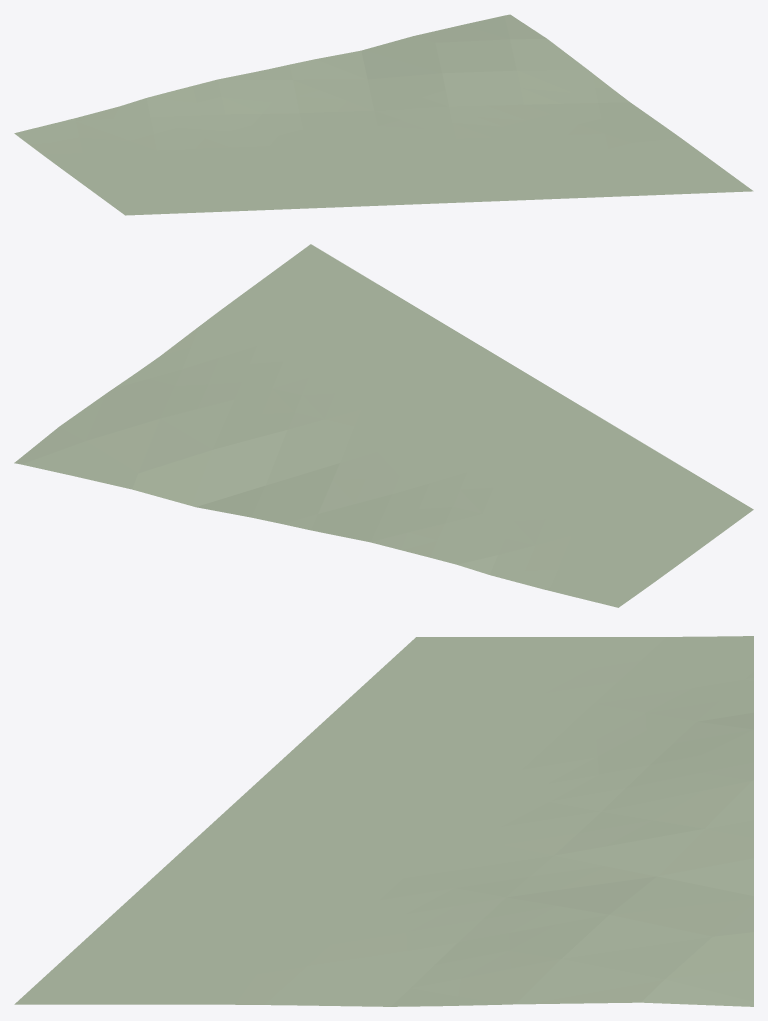
Rendered from SM_MPRR_Terrain_-3_-3.fbx.
The picture shows the model from 3 angles, top to bottom: view 1: azimuth 30°, elevation 25°; view 2: azimuth 150°, elevation 25°; view 3: azimuth 270°, elevation 25°; orthographic projection. The views are drawn at different scales.
Parts seen in each view (by area): view 1: SM_MPRR_Terrain_-3_-3; view 2: SM_MPRR_Terrain_-3_-3; view 3: SM_MPRR_Terrain_-3_-3.
Part boxes in pixels (x1,y1,x2,y2): SM_MPRR_Terrain_-3_-3: [14, 14, 753, 215]; SM_MPRR_Terrain_-3_-3: [14, 244, 753, 607]; SM_MPRR_Terrain_-3_-3: [14, 636, 753, 1006].
Size of the model in its own units: 15000 by 12761 by 183.
